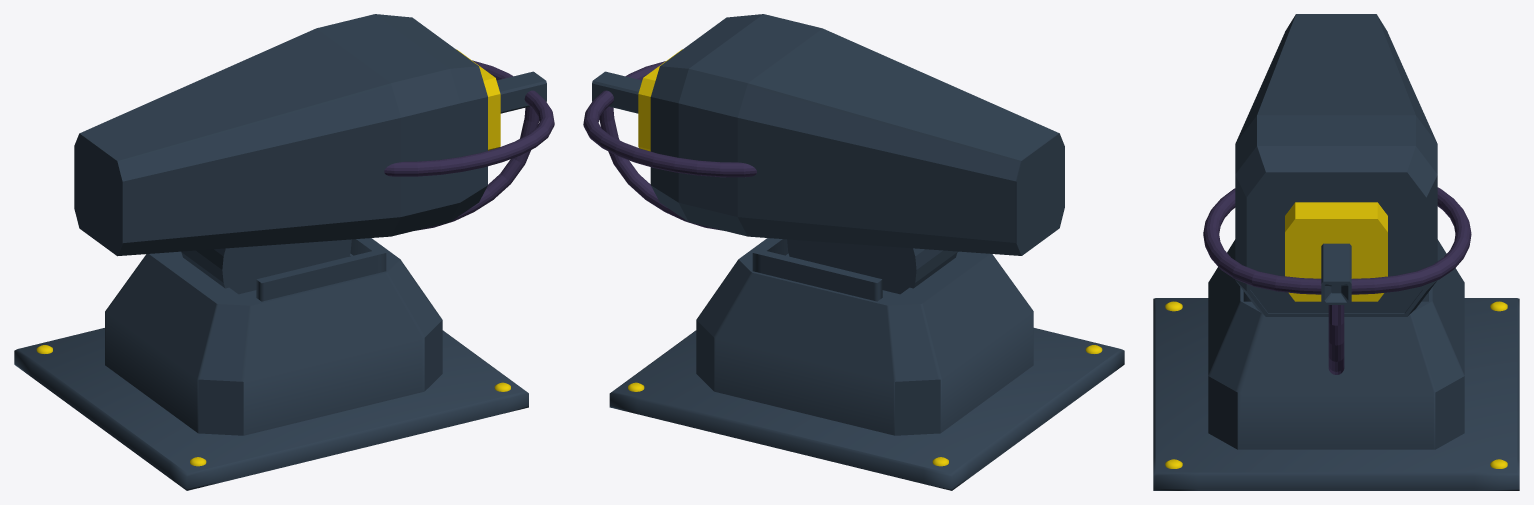
The model's file is Laser Beamer.fbx.
3 views of the same model, side by side, from view 1: azimuth 30°, elevation 25°; view 2: azimuth 150°, elevation 25°; view 3: azimuth 270°, elevation 25° (orthographic). The views are drawn at different scales.
Visible parts, largest first — view 1: Turret, Stand; view 2: Turret, Stand; view 3: Stand, Turret.
Part boxes in pixels (left/top/right/bottom): Turret: left=74, top=14, right=554, bottom=294; Stand: left=14, top=238, right=528, bottom=490; Turret: left=583, top=14, right=1064, bottom=294; Stand: left=609, top=238, right=1124, bottom=490; Stand: left=1153, top=239, right=1519, bottom=490; Turret: left=1203, top=14, right=1471, bottom=374.
Bounding box in the file's own units: 528 × 355 × 357.
